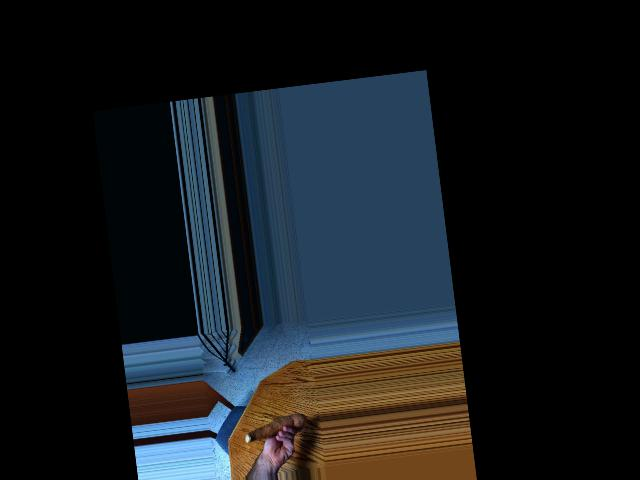sweet_potato: (245, 410, 306, 445)
